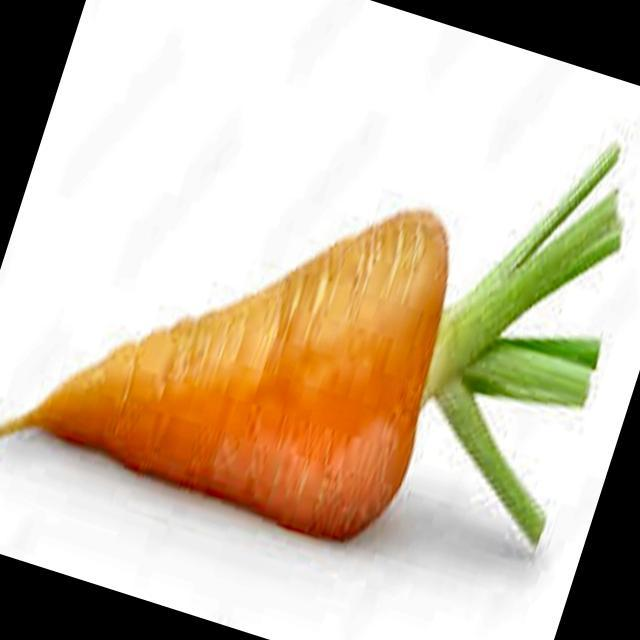carrot: (0, 145, 621, 544)
